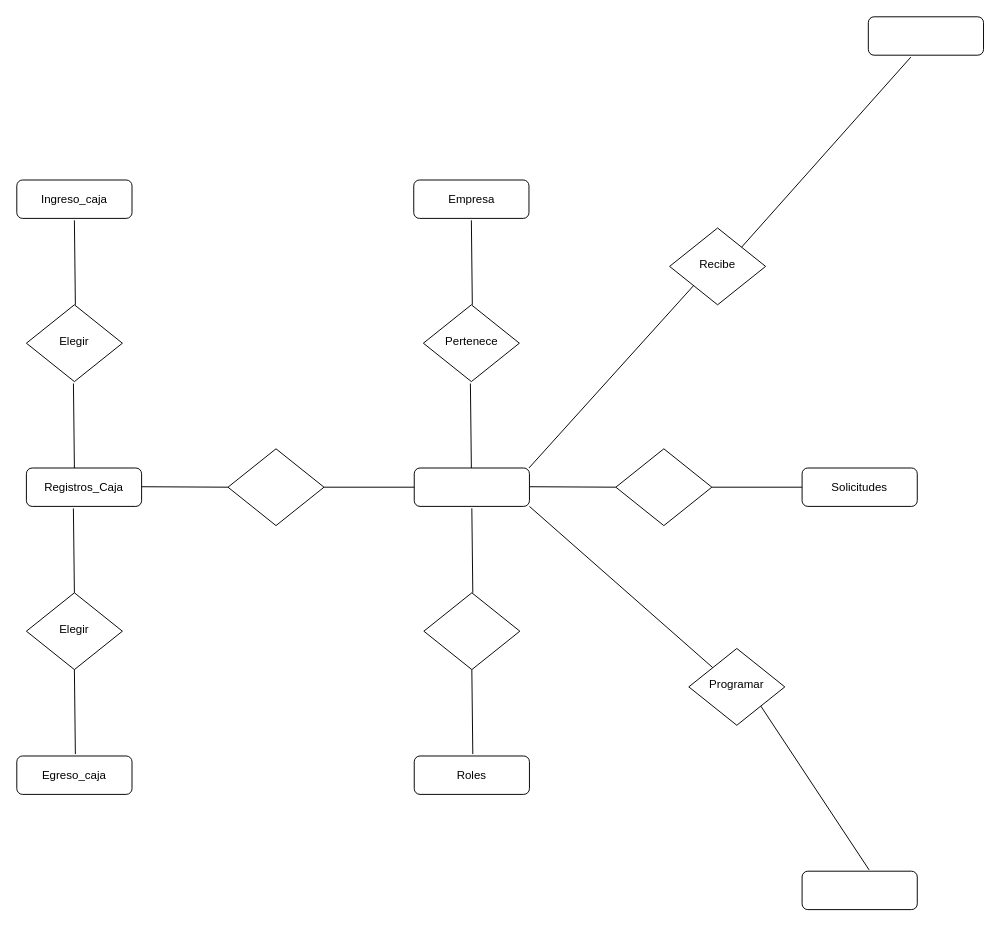
Image size: 1000x926. Some labels were removed from this diagram. Here are the shapes that lost their labels. From the top down, the centre of each, then its label:
[925,35]: Notificaciones
[275,487]: Crear
[471,486]: Usuarios
[663,487]: Hacer
[471,631]: Asignar
[859,890]: Eventos
